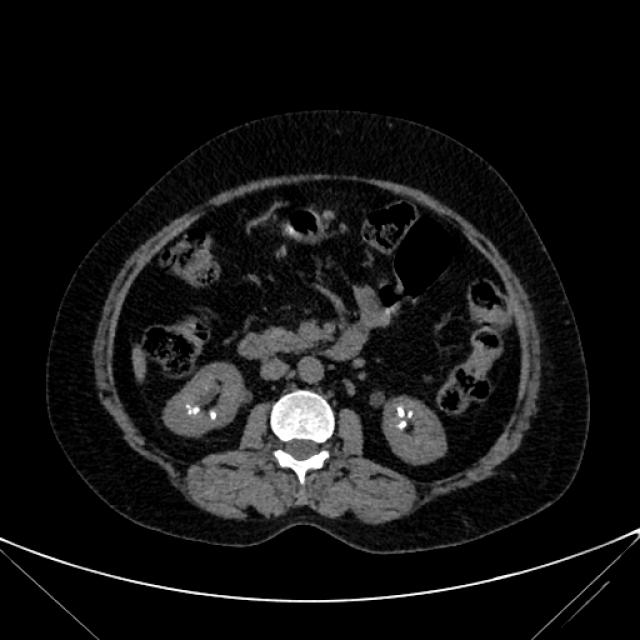kidney: (163, 361, 247, 439), (380, 395, 451, 467)
stone: (186, 403, 200, 415), (398, 420, 408, 430), (397, 406, 405, 416), (210, 410, 218, 419), (406, 411, 416, 418)
